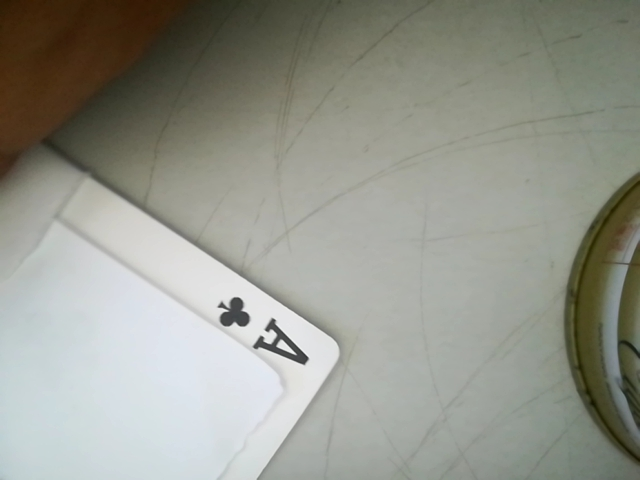mh a: (201, 283, 329, 374)
